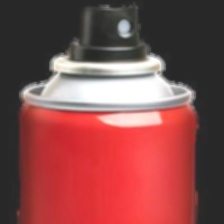aerosol_cans: (8, 0, 204, 222)
